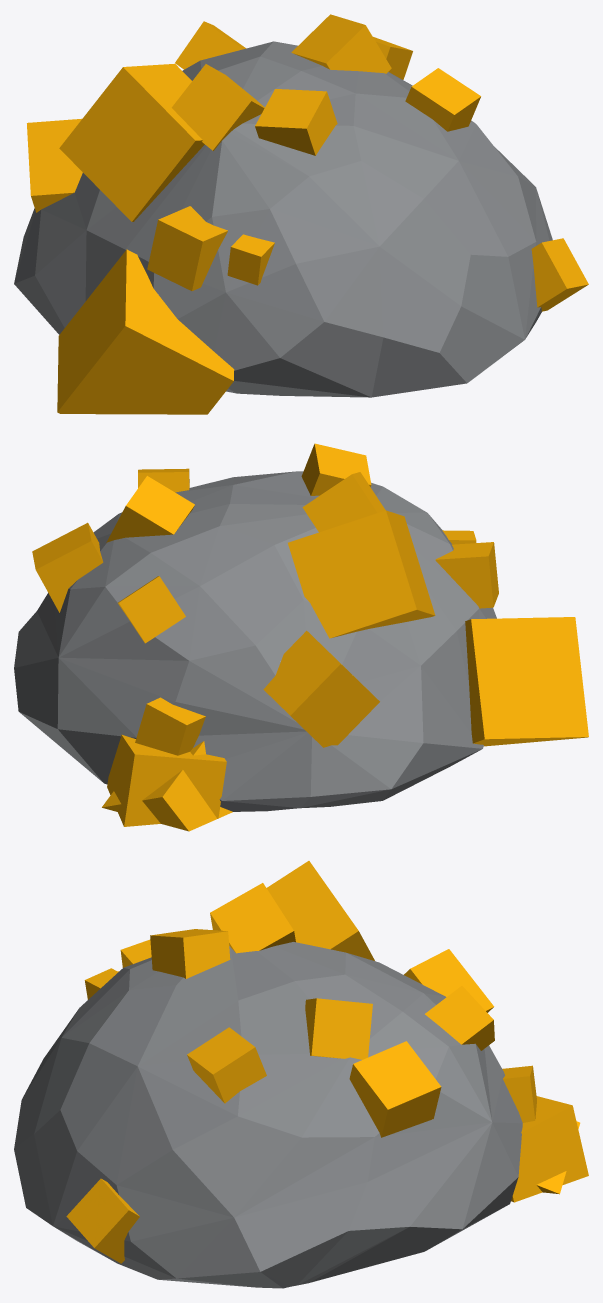
Rendered from SquareGemsVar2.fbx.
The picture shows the model from 3 angles, top to bottom: view 1: azimuth 30°, elevation 25°; view 2: azimuth 150°, elevation 25°; view 3: azimuth 270°, elevation 25°; orthographic projection. The views are drawn at different scales.
Parts seen in each view (by area): view 1: SquareGemsVar2Granite; view 2: SquareGemsVar2Granite; view 3: SquareGemsVar2Granite.
Boxes of the visible parts, x1,y1,x2,y2 form: SquareGemsVar2Granite: (14, 14, 588, 414); SquareGemsVar2Granite: (14, 443, 588, 831); SquareGemsVar2Granite: (14, 861, 588, 1288).
Size of the model in its own units: 204 by 96.92 by 195.
